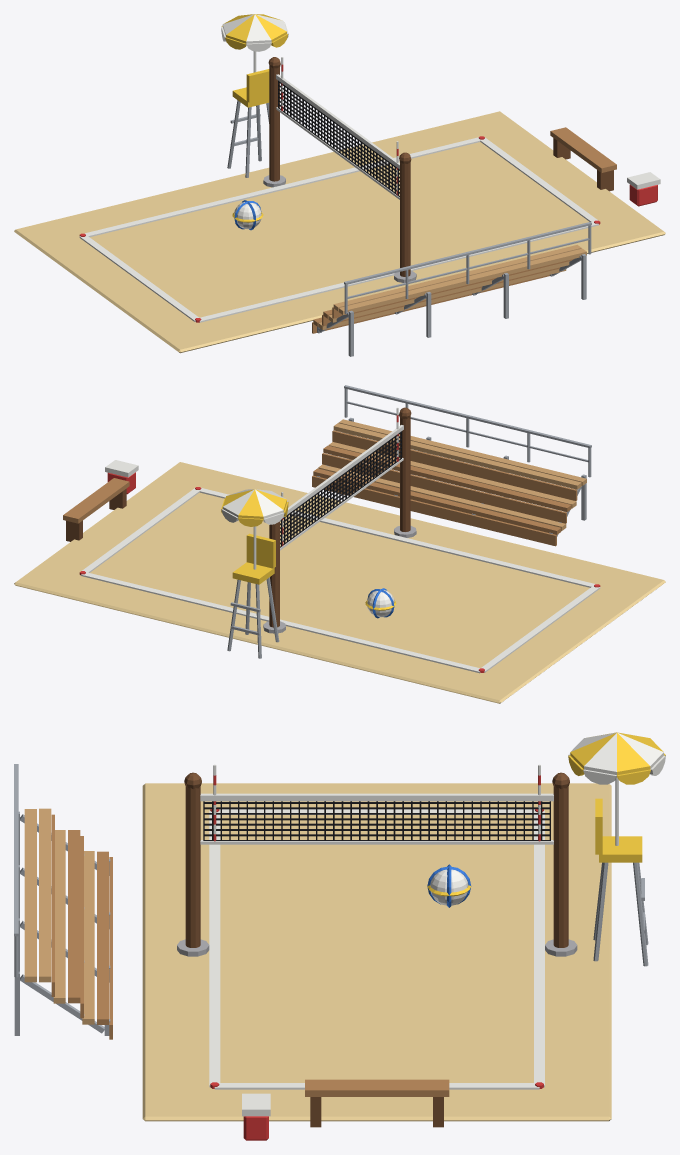
The model's file is VolleyballCourt.fbx.
3 views of the same model, one above another, from view 1: azimuth 30°, elevation 25°; view 2: azimuth 150°, elevation 25°; view 3: azimuth 270°, elevation 25° (orthographic). The views are drawn at different scales.
Visible parts, largest first — view 1: VolleyballCourt_Sand, VolleyballCourt_White, VolleyballCourt_WoodLight, VolleyballCourt_Metal, VolleyballCourt_WoodDark, VolleyballCourt_Black, VolleyballCourt_Plank, VolleyballCourt_Yellow, VolleyballCourt_Red; view 2: VolleyballCourt_Sand, VolleyballCourt_Plank, VolleyballCourt_White, VolleyballCourt_WoodLight, VolleyballCourt_Metal, VolleyballCourt_Black, VolleyballCourt_WoodDark, VolleyballCourt_Yellow; view 3: VolleyballCourt_Sand, VolleyballCourt_White, VolleyballCourt_Plank, VolleyballCourt_WoodLight, VolleyballCourt_Black, VolleyballCourt_WoodDark, VolleyballCourt_Metal, VolleyballCourt_Yellow, VolleyballCourt_Red, VolleyballCourt_Concrete.
Part boxes in pixels (bbox=[...]): VolleyballCourt_Sand: bbox=[14, 111, 665, 353]; VolleyballCourt_White: bbox=[79, 14, 660, 322]; VolleyballCourt_WoodLight: bbox=[318, 244, 586, 329]; VolleyballCourt_Metal: bbox=[227, 100, 591, 356]; VolleyballCourt_WoodDark: bbox=[268, 57, 613, 276]; VolleyballCourt_Black: bbox=[278, 80, 399, 196]; VolleyballCourt_Plank: bbox=[312, 127, 616, 333]; VolleyballCourt_Yellow: bbox=[221, 14, 287, 222]; VolleyballCourt_Red: bbox=[79, 64, 657, 322]; VolleyballCourt_Sand: bbox=[14, 462, 665, 703]; VolleyballCourt_Plank: bbox=[63, 430, 577, 546]; VolleyballCourt_White: bbox=[81, 407, 600, 673]; VolleyballCourt_WoodLight: bbox=[318, 419, 586, 530]; VolleyballCourt_Metal: bbox=[227, 385, 591, 658]; VolleyballCourt_Black: bbox=[280, 431, 401, 547]; VolleyballCourt_WoodDark: bbox=[66, 407, 411, 627]; VolleyballCourt_Yellow: bbox=[221, 489, 396, 610]; VolleyballCourt_Sand: bbox=[142, 783, 611, 1121]; VolleyballCourt_White: bbox=[200, 732, 665, 1116]; VolleyballCourt_Plank: bbox=[51, 814, 449, 1096]; VolleyballCourt_WoodLight: bbox=[24, 808, 94, 1024]; VolleyballCourt_Black: bbox=[203, 801, 550, 840]; VolleyballCourt_WoodDark: bbox=[184, 772, 569, 1127]; VolleyballCourt_Metal: bbox=[14, 764, 648, 1035]; VolleyballCourt_Yellow: bbox=[427, 732, 665, 896]; VolleyballCourt_Red: bbox=[210, 775, 543, 1140]; VolleyballCourt_Concrete: bbox=[177, 939, 577, 956].
Size of the model in its own units: 46.6 by 13.65 by 36.14.
